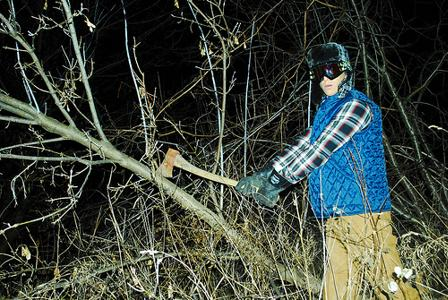person: (233, 42, 409, 300)
